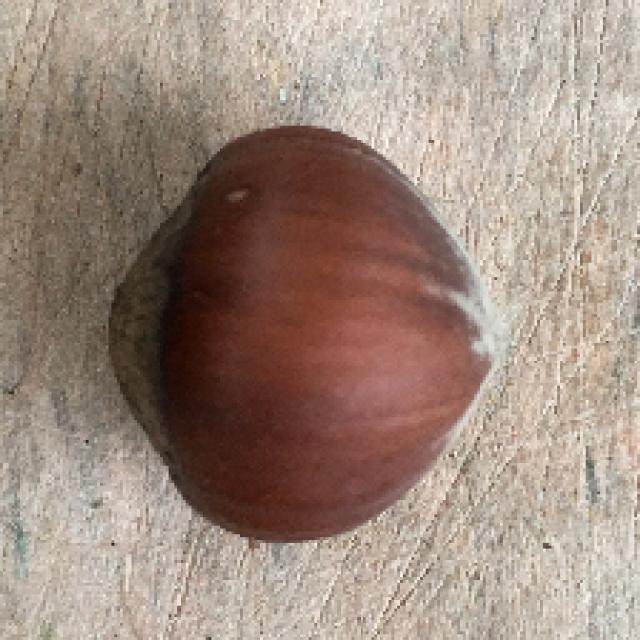damagedHazelnut: (110, 123, 500, 554)
